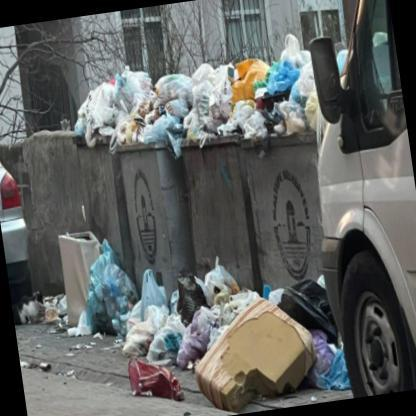Garbage: (157, 50, 316, 145), (70, 71, 198, 157), (81, 236, 146, 343), (138, 265, 200, 361), (128, 347, 189, 410), (280, 274, 336, 342), (175, 266, 247, 318), (304, 328, 350, 388), (40, 294, 69, 327)
